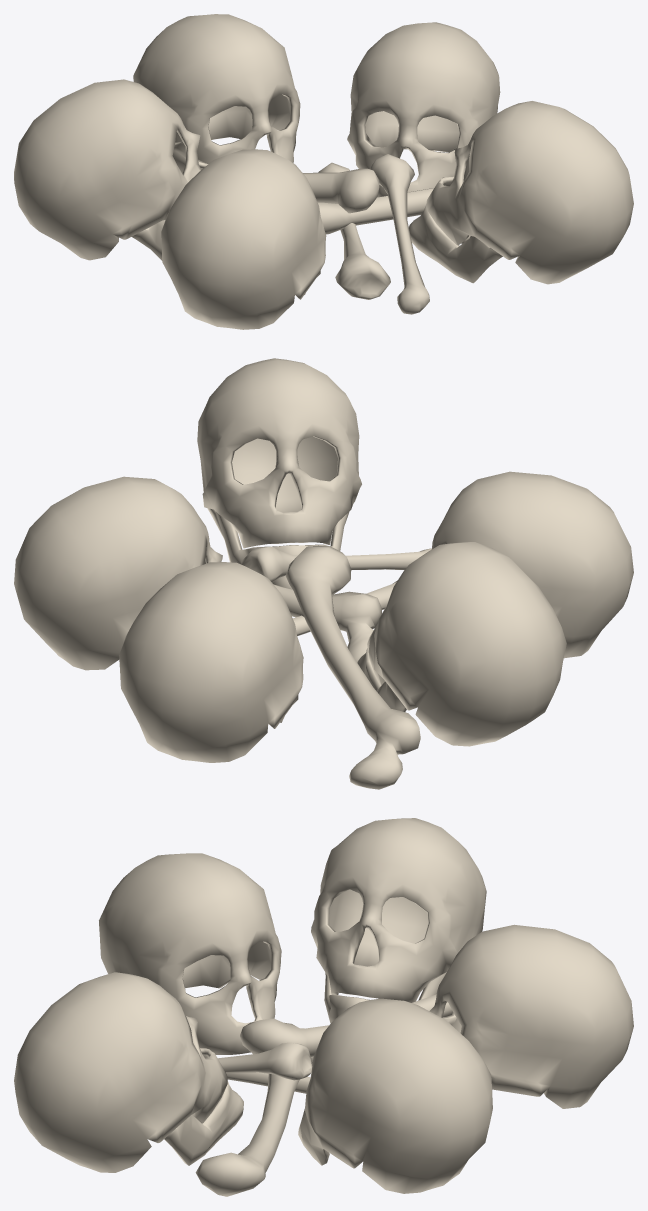
The model's file is BonePile_7.glb.
The picture shows the model from 3 angles, top to bottom: view 1: azimuth 30°, elevation 25°; view 2: azimuth 150°, elevation 25°; view 3: azimuth 270°, elevation 25°; orthographic projection. The views are drawn at different scales.
Parts seen in each view (by area): view 1: BonePile_7; view 2: BonePile_7; view 3: BonePile_7.
Part boxes in pixels (<box>): BonePile_7: <box>14,14,633,329</box>; BonePile_7: <box>14,358,633,789</box>; BonePile_7: <box>14,818,633,1196</box>.
Bounding box in the file's own units: 0.7745 × 0.2425 × 0.758.
